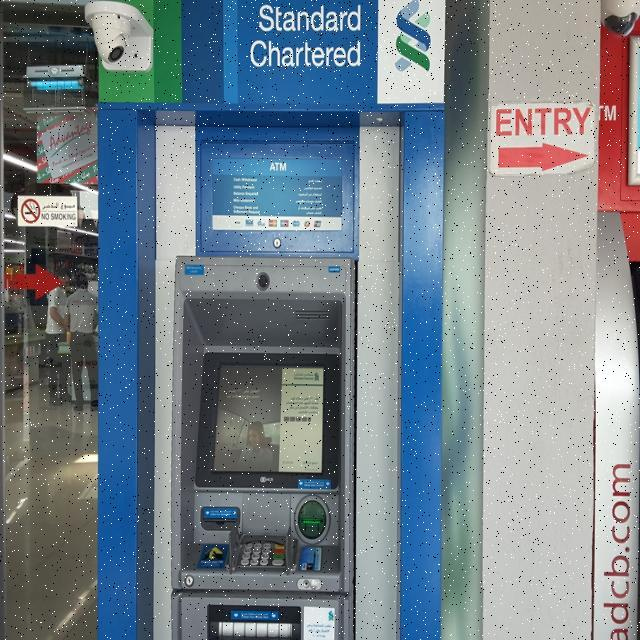Standard Chartered: (250, 0, 433, 73)
